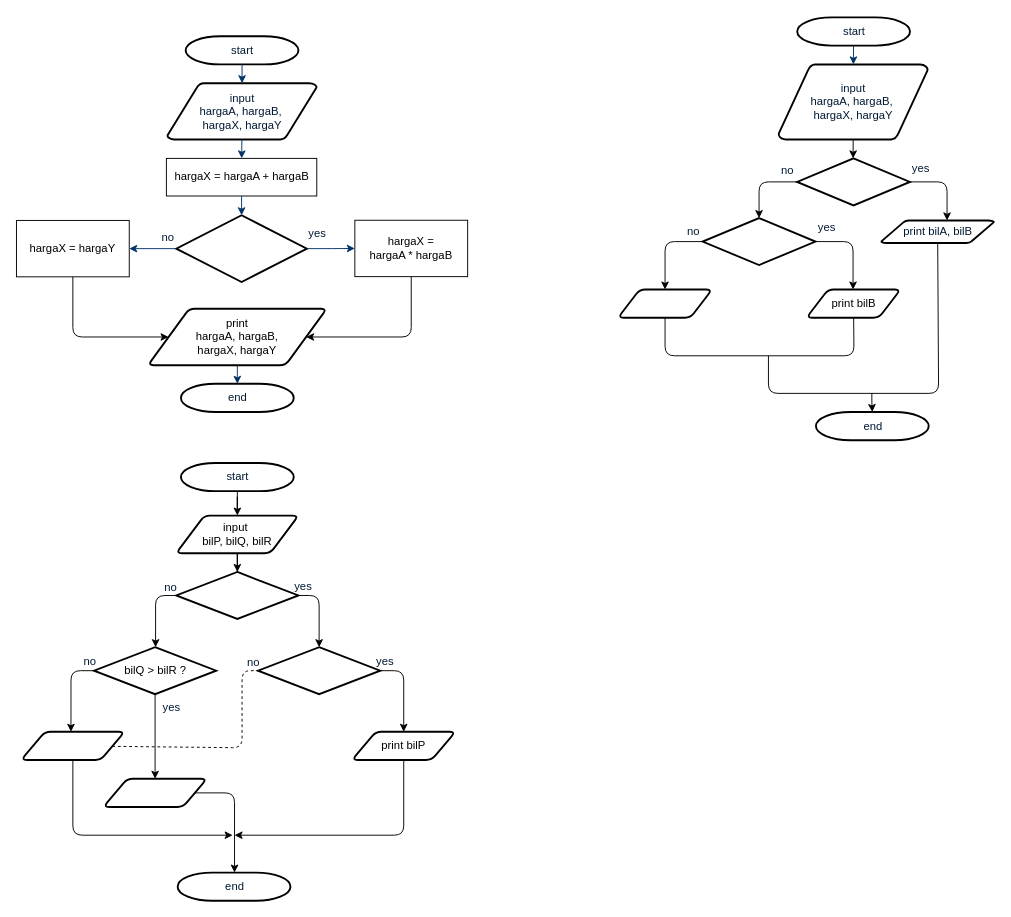
Some shapes in this 1011 by 917 pixel diagram are drawn without their labels. The shapes that lost their labels are listed below. From the top down, each one's box as (x1, y1, x2, y2) in pixels, then its label:
(796, 157, 910, 206): bilA == bilB ?
(175, 214, 307, 282): hargaX % 2 = 0 ?
(701, 217, 816, 266): bilA < bilB ?
(617, 288, 713, 318): print bilA
(175, 571, 299, 619): bilP > bilQ ?
(257, 646, 381, 695): bilP > bilR ?
(20, 730, 125, 760): print bilR
(102, 777, 207, 807): print bilQ
